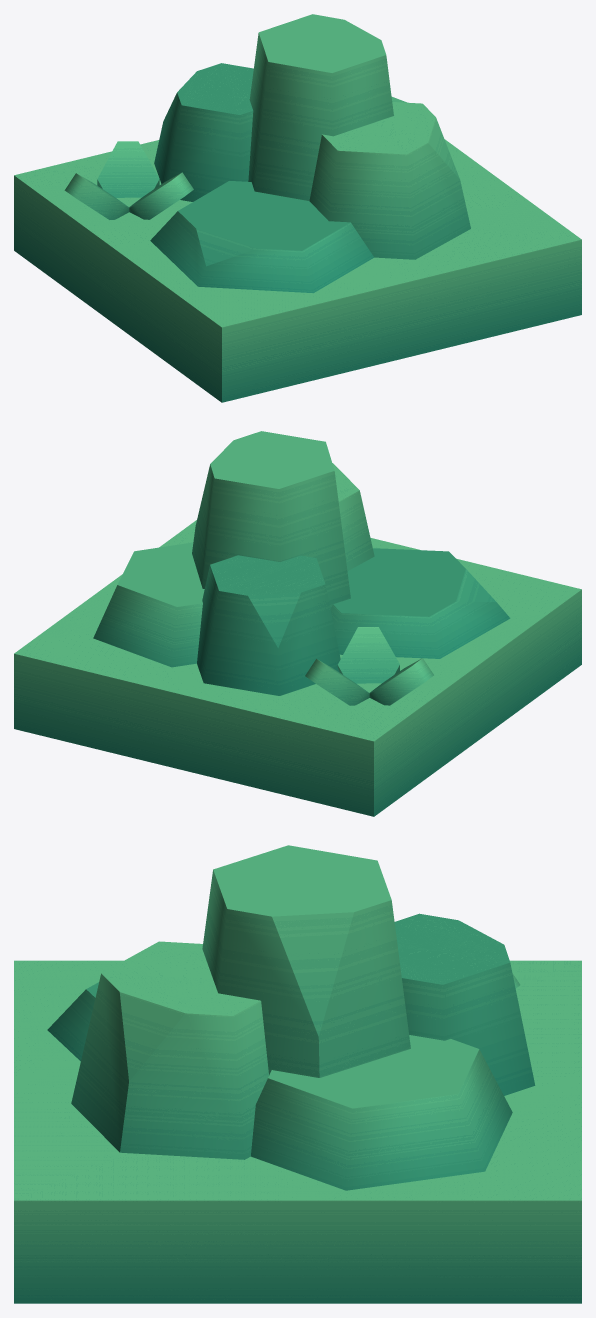
Rendered from tower-defense-kit--tile-hill.glb.
The picture shows the model from 3 angles, top to bottom: view 1: azimuth 30°, elevation 25°; view 2: azimuth 150°, elevation 25°; view 3: azimuth 270°, elevation 25°; orthographic projection. The views are drawn at different scales.
Parts seen in each view (by area): view 1: tile-hill; view 2: tile-hill; view 3: tile-hill.
Part boxes in pixels (bbox=[...]): tile-hill: bbox=[14, 14, 581, 402]; tile-hill: bbox=[14, 431, 581, 816]; tile-hill: bbox=[14, 845, 581, 1303].
Bounding box in the file's own units: 1 × 0.6145 × 1.
Materials: 1 (1 with a texture image).
